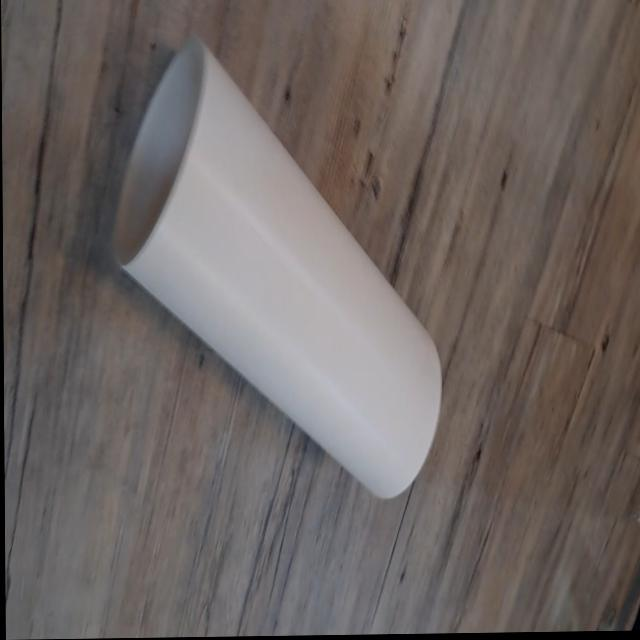CORAL: (99, 27, 452, 514)
